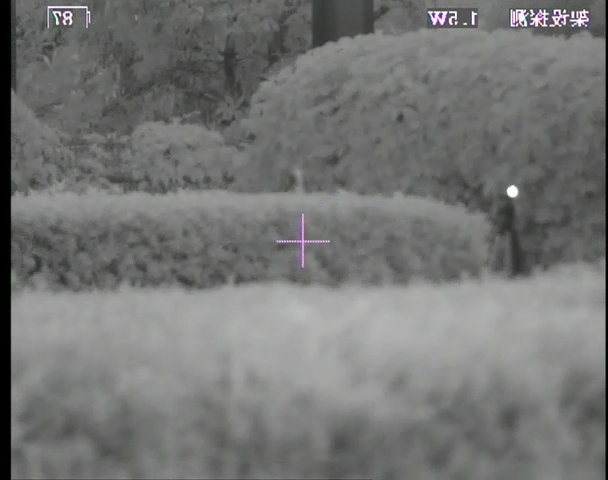my: (505, 184, 519, 200)
